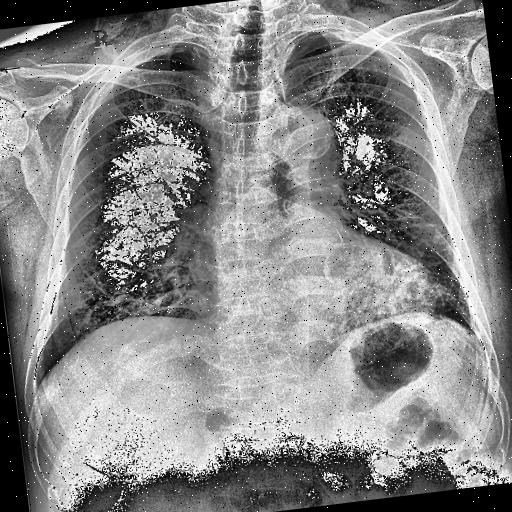0- Aortic enlargement: (261, 95, 347, 184)
2- Calcification: (288, 100, 340, 170), (290, 102, 338, 173)
3- Cardiomegaly: (170, 209, 452, 359)
5- ILD: (0, 47, 248, 379), (294, 16, 474, 350), (14, 161, 232, 386), (318, 140, 480, 346), (378, 188, 462, 296), (106, 240, 191, 330)
